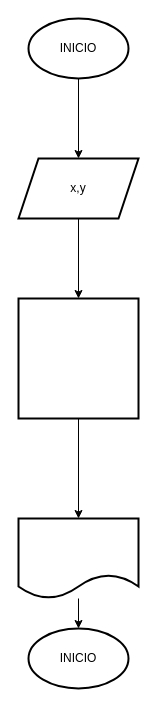
Image size: 156x706. Some labels were removed from this diagram. The shapes that lost their labels are listed below. From the top down, each one's centre as x and y in pixels, then its label:
[78,358]: s = x+y r = x-y m = x*y d = x/y mod = x%y de = x//y p = x**y
[78,558]: s,r,m,d,mod,de,p
